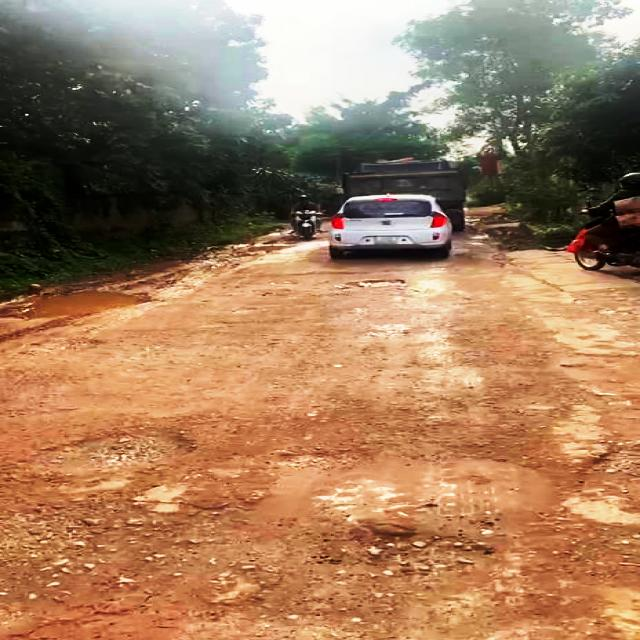pothole: (28, 423, 214, 480), (565, 450, 640, 580), (14, 287, 163, 323), (340, 278, 410, 292)
